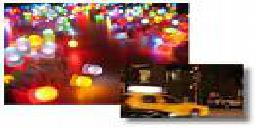LED: (29, 84, 61, 106), (71, 72, 97, 89), (2, 46, 23, 65), (82, 62, 105, 77), (76, 15, 92, 33)
